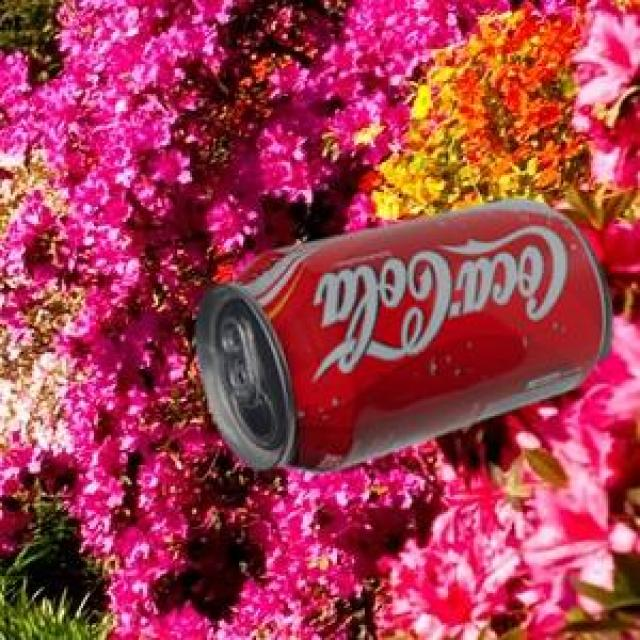logam: (193, 195, 609, 470)
